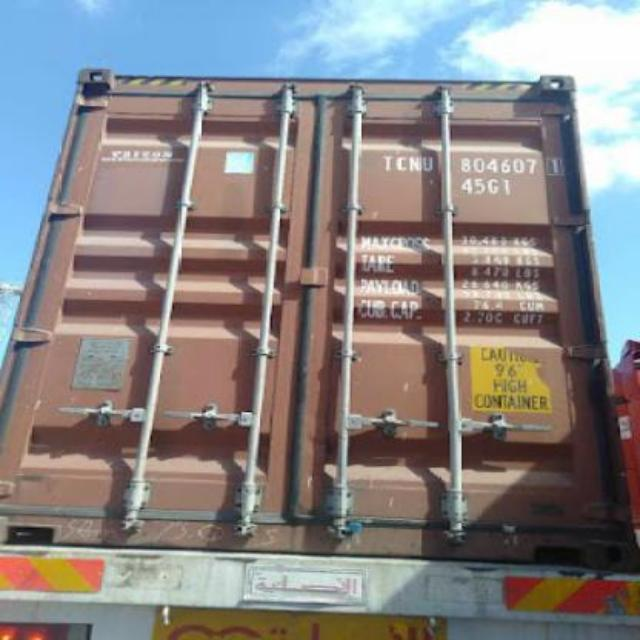0: (472, 156, 486, 172), (512, 157, 526, 173)
1: (548, 157, 566, 177)
4: (486, 157, 499, 173)
6: (502, 156, 512, 174)
7: (526, 156, 540, 174)
8: (460, 156, 472, 172)
C: (394, 154, 410, 170)
N: (408, 156, 422, 172)
T: (382, 154, 394, 170)
U: (422, 156, 436, 174)
